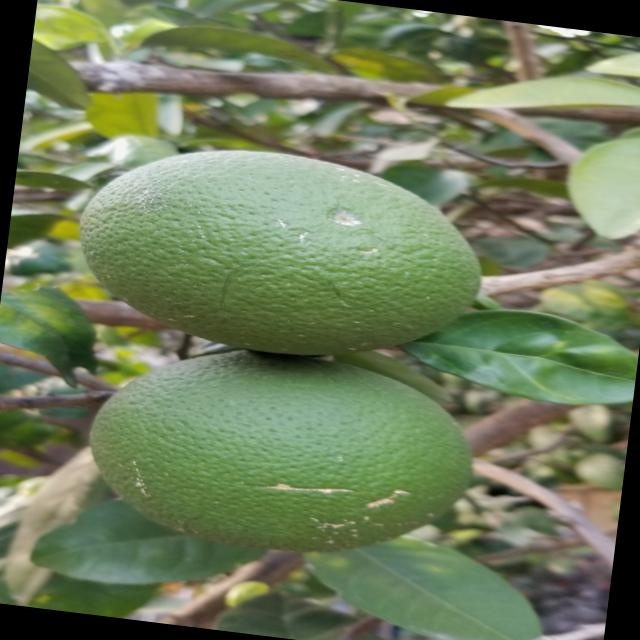agrume: (66, 128, 505, 379), (64, 327, 497, 576)
